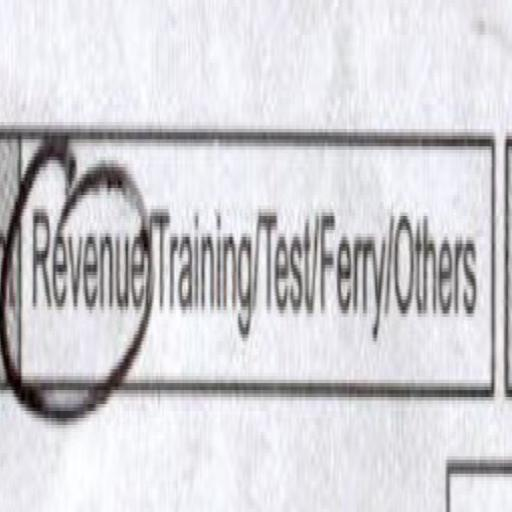check: (22, 60, 145, 462)
